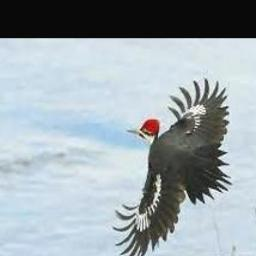Woodpecker: (111, 76, 232, 256)
